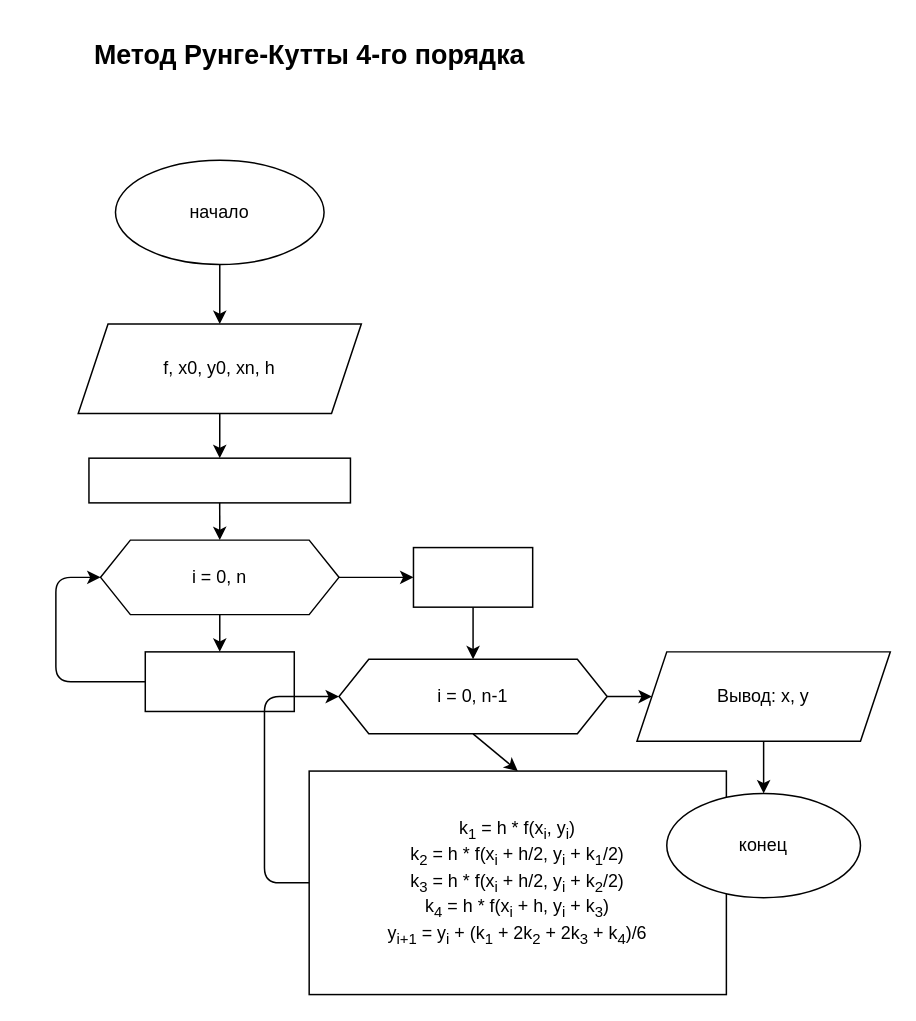
This 916x1021 diagram has some shape labels left out. The shapes that lost their labels are listed below. From the top down, each one's centre as x and y in pixels, then its label:
the point at 218,480: n = round((xn - x0) / h)
the point at 472,576: y 0 =y0
the point at 219,680: x i = x0 + i * h y i =0
